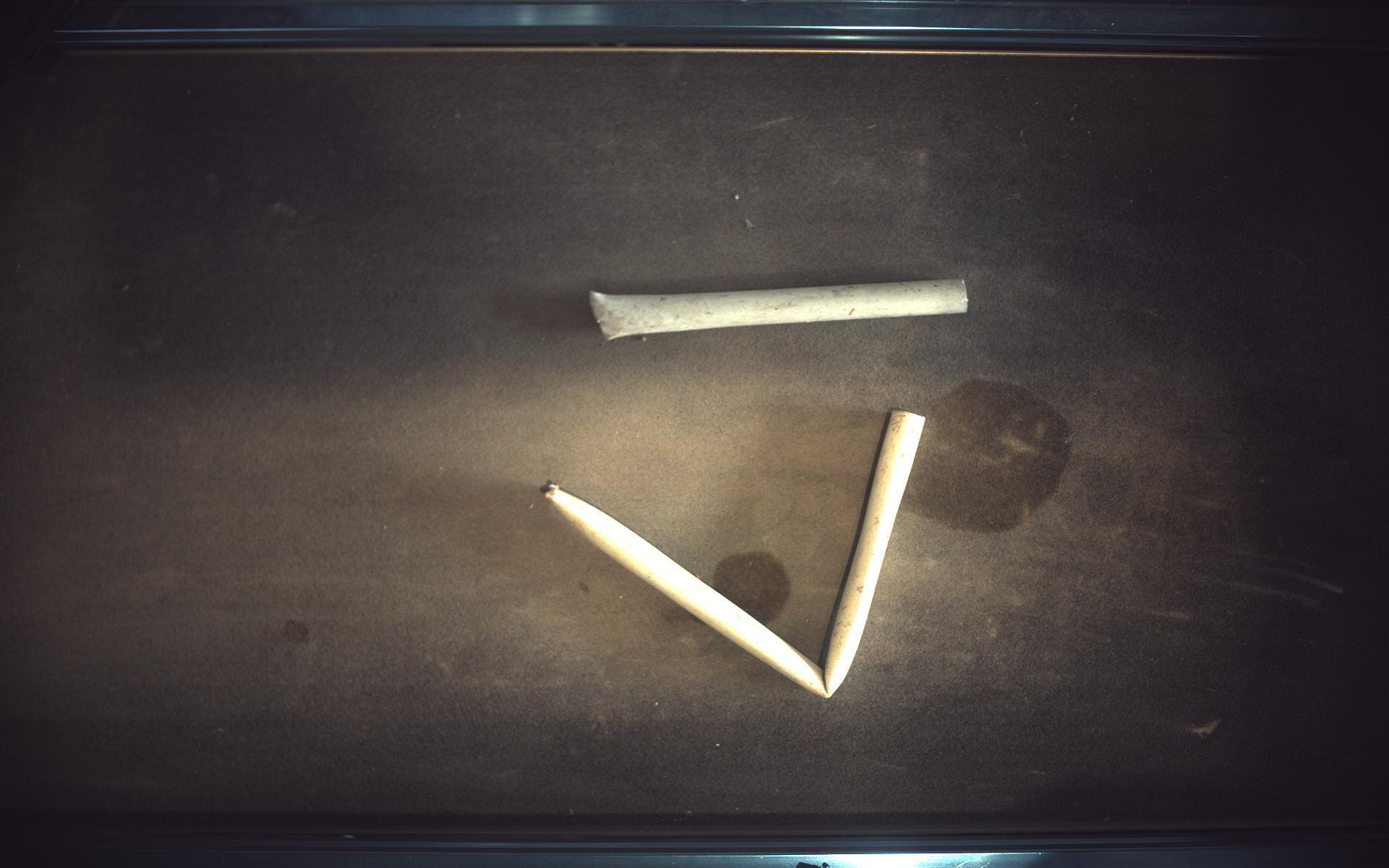pipes: (544, 410, 926, 699), (591, 278, 970, 340)
